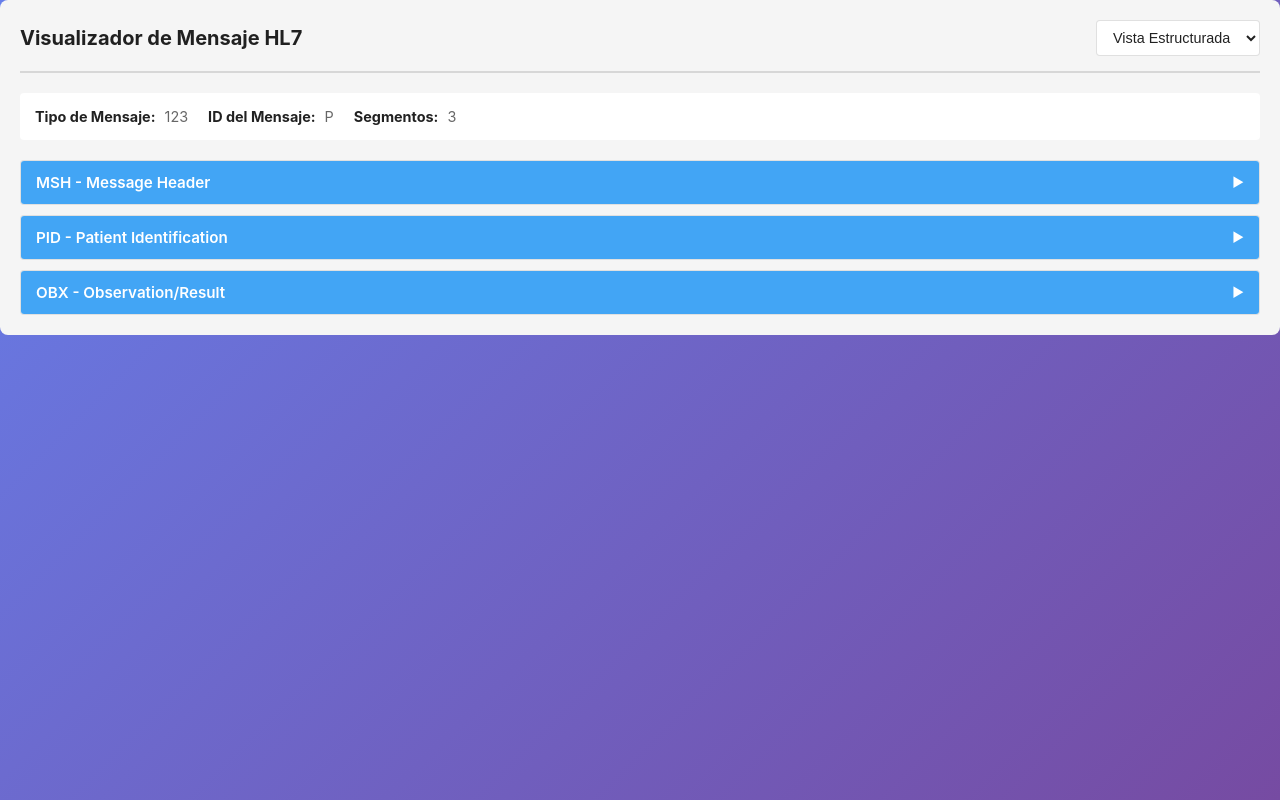
Hl7MessageViewer › switches to raw view when selected
Select "Vista Raw" in the dropdown at {"x": 1178, "y": 38}, box [1096,20,1260,56]
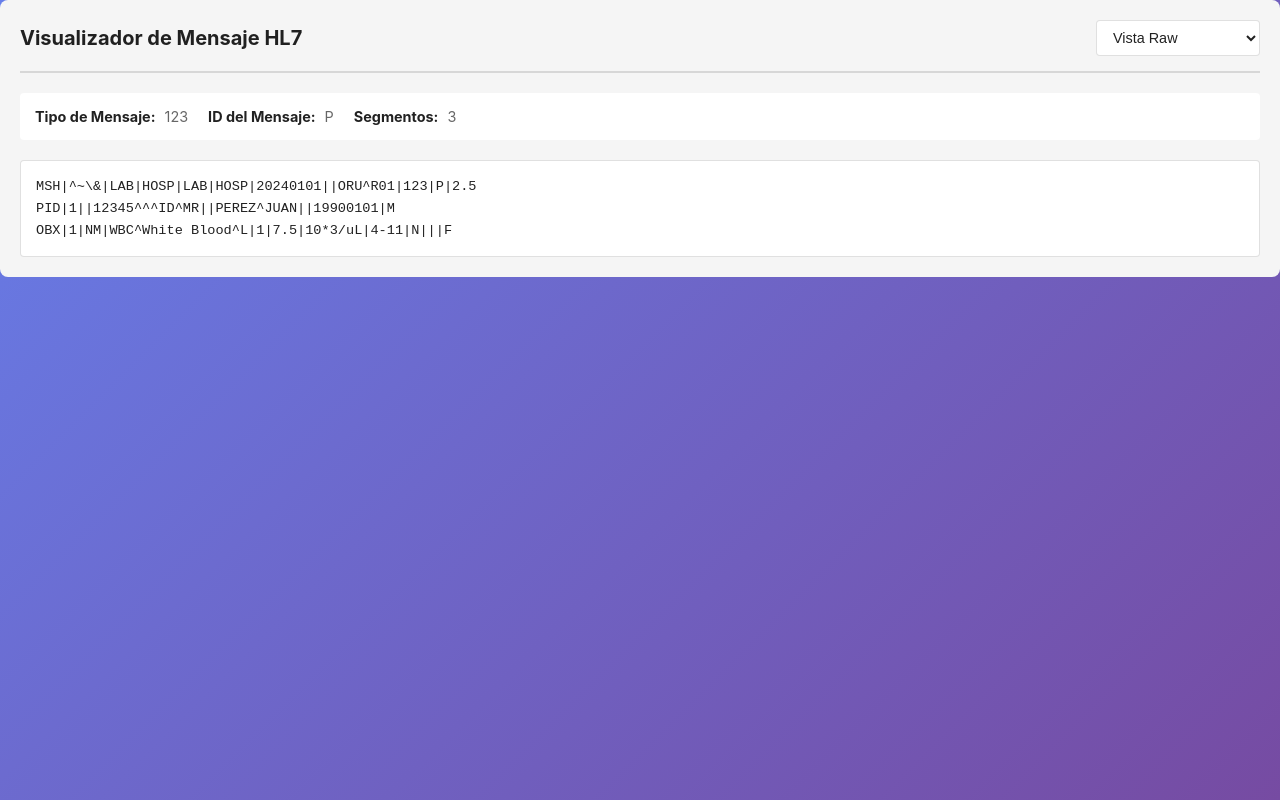
Expected: the text with class "hl7-raw-content" shows "MSH", [36,179,476,238]
